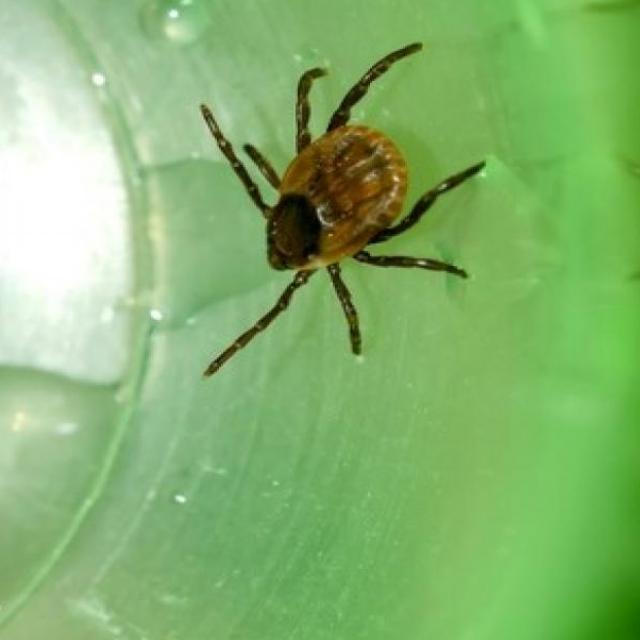Rhipicephalus Sanguineus-F: (199, 45, 484, 376)
